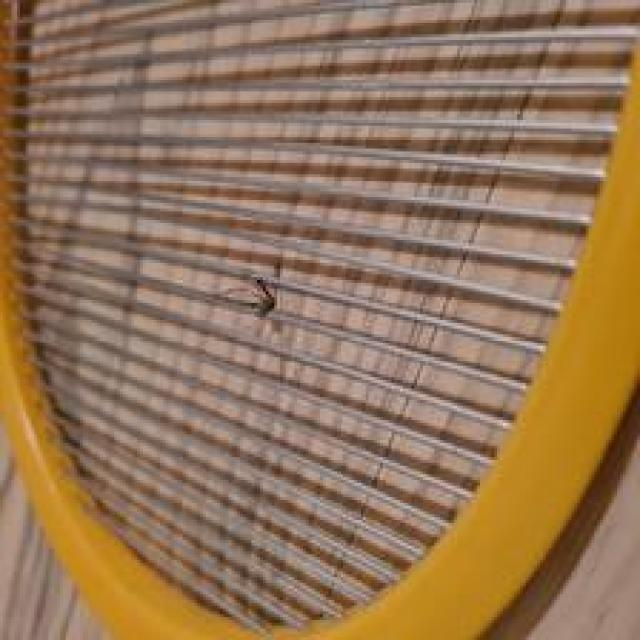Culex: (224, 274, 279, 320)
